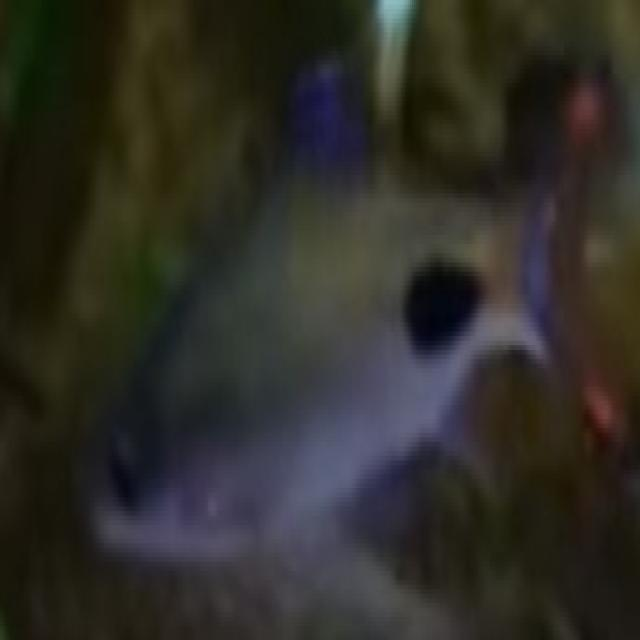Black-Spotted-Barb: (65, 90, 640, 589)
